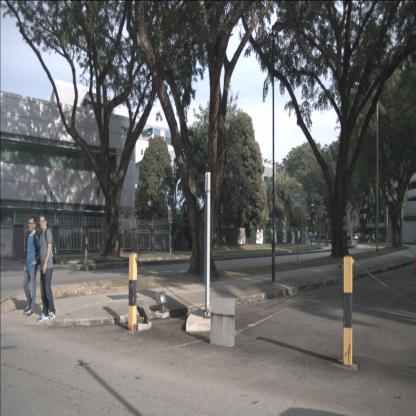cone: (410, 258, 416, 276)
